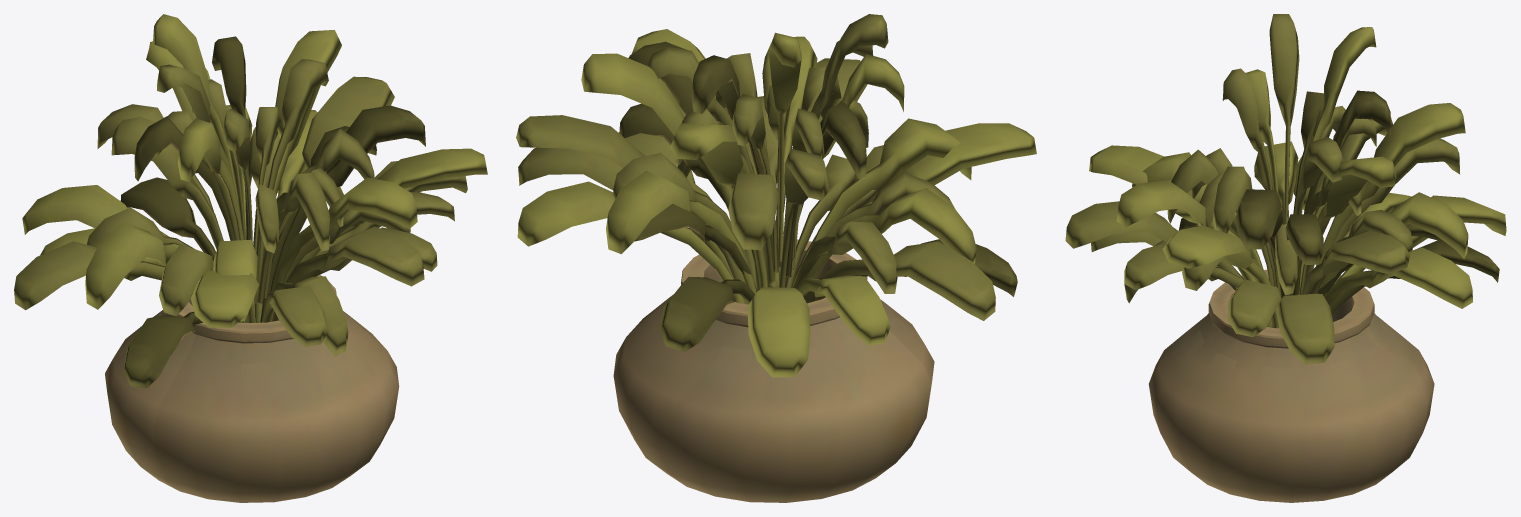
The model's file is MansionPlantPot2.fbx.
3 views of the same model, side by side, from view 1: azimuth 30°, elevation 25°; view 2: azimuth 150°, elevation 25°; view 3: azimuth 270°, elevation 25° (orthographic). The views are drawn at different scales.
Visible parts, largest first — view 1: plant, plantPot-Merged; view 2: plant, plantPot-Merged; view 3: plant, plantPot-Merged.
Part boxes in pixels (<box>): plant: <box>14,14,487,388</box>; plantPot-Merged: <box>105,275,399,502</box>; plant: <box>516,14,1036,377</box>; plantPot-Merged: <box>613,239,934,502</box>; plant: <box>1065,14,1506,364</box>; plantPot-Merged: <box>1148,269,1434,502</box>.
Size of the model in its own units: 4.99 by 4.68 by 4.5.
